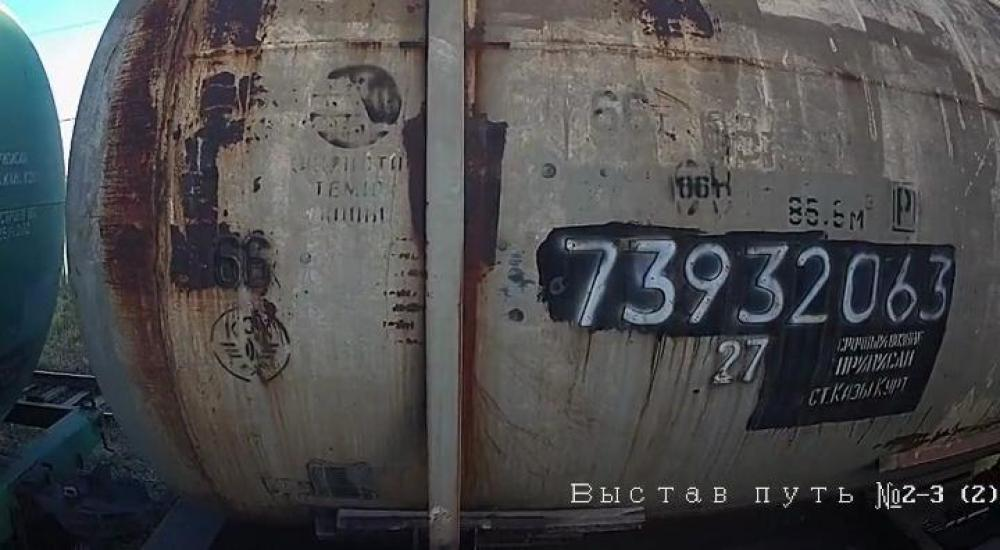Wagon-number: (557, 232, 953, 336)
